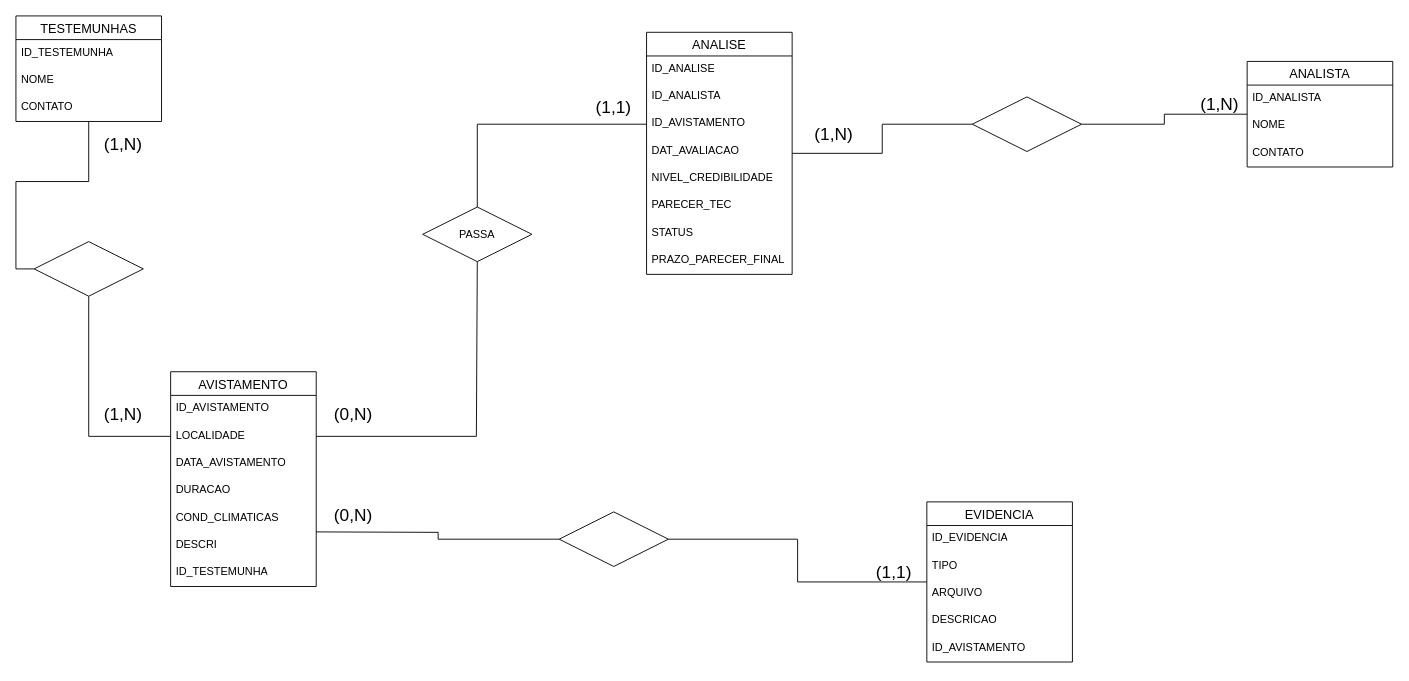
Some shapes in this 1409 by 681 pixel diagram are drawn without their labels. The shapes that lost their labels are listed below. From the top down, each one's centre as x and y in pixels, then its label:
At (x=1026, y=124): "AVERIGUADA".
At (x=88, y=268): "PRESENCIA".
At (x=613, y=538): "CONTEM".
